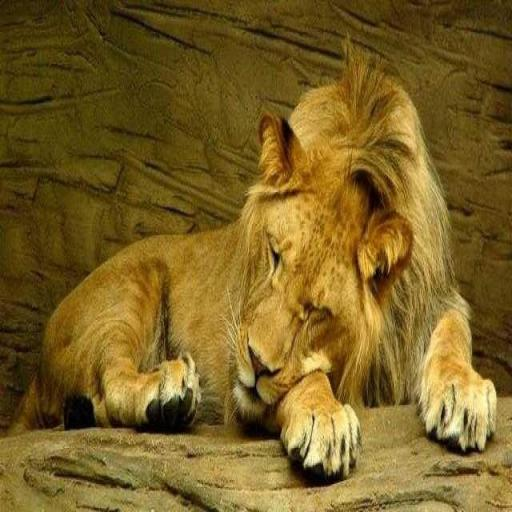Lion: (6, 32, 497, 483)
